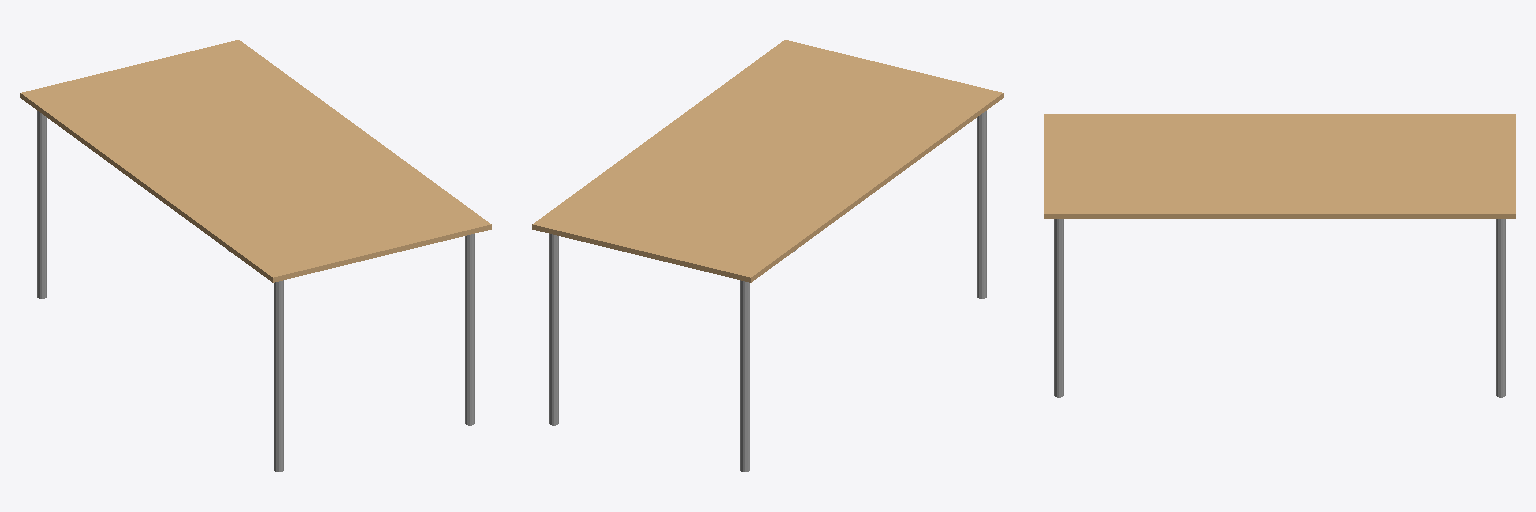
URDF robot description (room602-desk5_fixed):
<?xml version="1.0"?>
<robot name="room602-desk5_fixed"
       xmlns:xi="http://www.w3.org/2001/XInclude"
       >
  <gazebo>
    <static>false</static>
  </gazebo>
  <link name="nil_link">
    <visual>
      <origin xyz="0 0 0" rpy="0 -0 0"/>
      <geometry>
        <mesh filename="model://room602-desk5/meshes/nil_link_mesh.dae" scale="1 1 1" />
      </geometry>
    </visual>
    <collision>
      <origin xyz="0 0 0" rpy="0 -0 0"/>
      <geometry>
        <mesh filename="model://room602-desk5/meshes/nil_link_mesh.dae" scale="1 1 1" />
      </geometry>
    </collision>
    <inertial>
      <mass value="0.001" />
      <origin xyz="0 0 0" rpy="0 -0 0"/>
      <inertia ixx="1e-03" ixy="0" ixz="0" iyy="1e-03" iyz="0" izz="1e-03"/>
    </inertial>
  </link>
  <gazebo reference="nil_link">
    <mu1>0.9</mu1>
    <mu2>0.9</mu2>
  </gazebo>
  <!-- Used for fixing robot to Gazebo 'base_link' -->
  <link name="world"/>
  <joint name="fixed" type="fixed">
    <parent link="world"/>
    <child link="nil_link"/>
  </joint>
</robot>

--- What the picture shows (computed from the rendered views, not written in the file) ---
Views: 3 orthographic renders of the robot side by side, from view 1: azimuth 30°, elevation 25°; view 2: azimuth 150°, elevation 25°; view 3: azimuth 270°, elevation 25°.
Model room602-desk5_fixed with 2 links and 1 joints (1 fixed), rooted at world, posed every joint at zero.
Links seen in each view (by area): view 1: nil_link; view 2: nil_link; view 3: nil_link.
Link boxes in pixels (x1,y1,x2,y2): nil_link: (20,40,491,471); nil_link: (532,40,1003,471); nil_link: (1044,114,1515,397).
Size in the robot's own frame: 0.8 by 1.6 by 0.705 metres.
Meshes: 1 distinct files referenced, 1 mesh visuals loaded (1 Collada DAE).